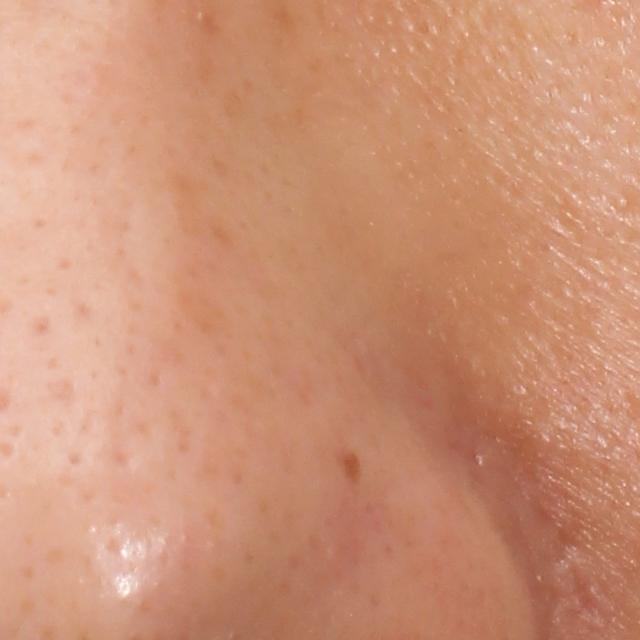comedo: (608, 185, 639, 215)
melasma: (334, 440, 365, 487)
